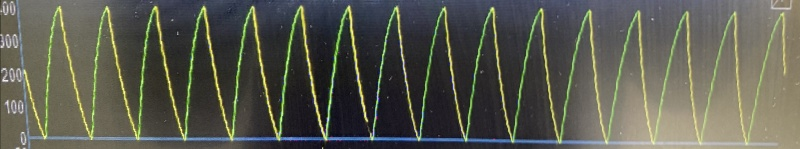normal_volume: (34, 0, 752, 147)
